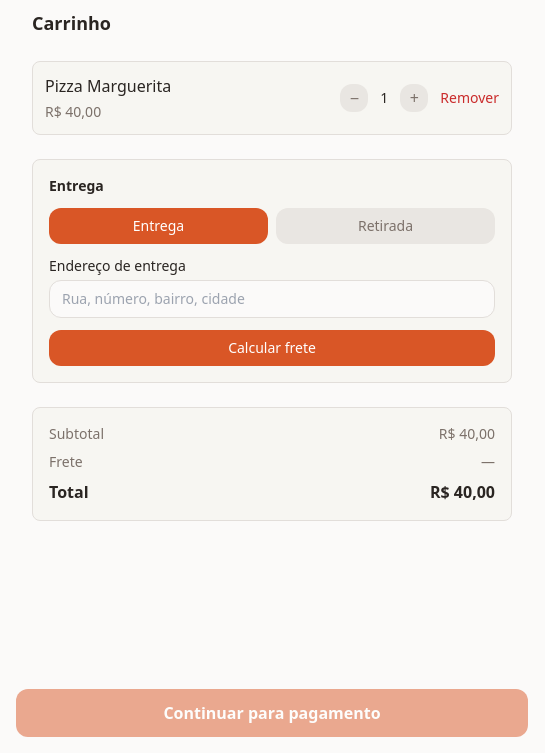
CartPage › ajustar quantidade recalcula o subtotal/total
Expected: the text "Pizza Marguerita" is shown, [45,75,171,97]
Expected: the text "R$ 40,00" below "Pizza Marguerita" is shown, [45,102,101,121]
Click the button named "Aumentar quantidade".
click(414, 98)  # box [400,84,428,112]
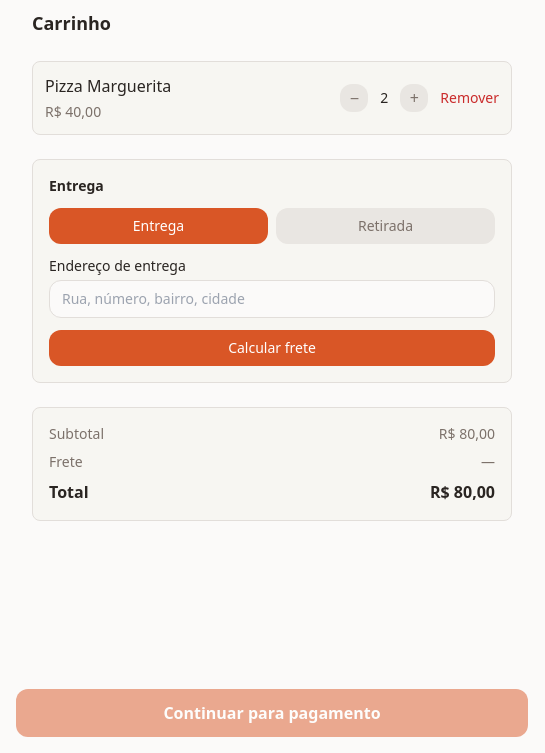
Now the text "R$ 80,00" in the row of "Subtotal" is shown, box [439,424,495,443]
